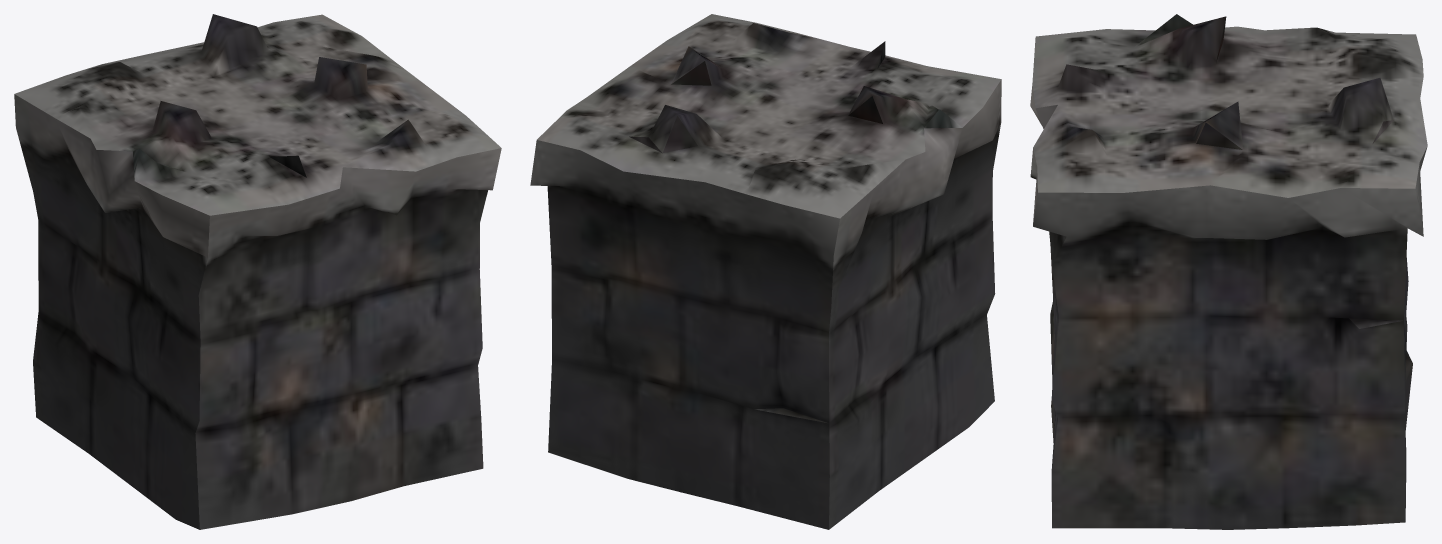
The model's file is b_braises_mur_1.glb.
The picture shows the model from 3 angles, left to right: view 1: azimuth 30°, elevation 25°; view 2: azimuth 150°, elevation 25°; view 3: azimuth 270°, elevation 25°; orthographic projection. The views are drawn at different scales.
Visible parts, largest first — view 1: geometry_0; view 2: geometry_0; view 3: geometry_0.
Boxes of the visible parts, bbox=[...] form: geometry_0: bbox=[14, 14, 501, 529]; geometry_0: bbox=[530, 14, 1001, 529]; geometry_0: bbox=[1030, 14, 1427, 529].
Size of the model in its own units: 1 by 1.09 by 1.
1 material, 1 textured.
